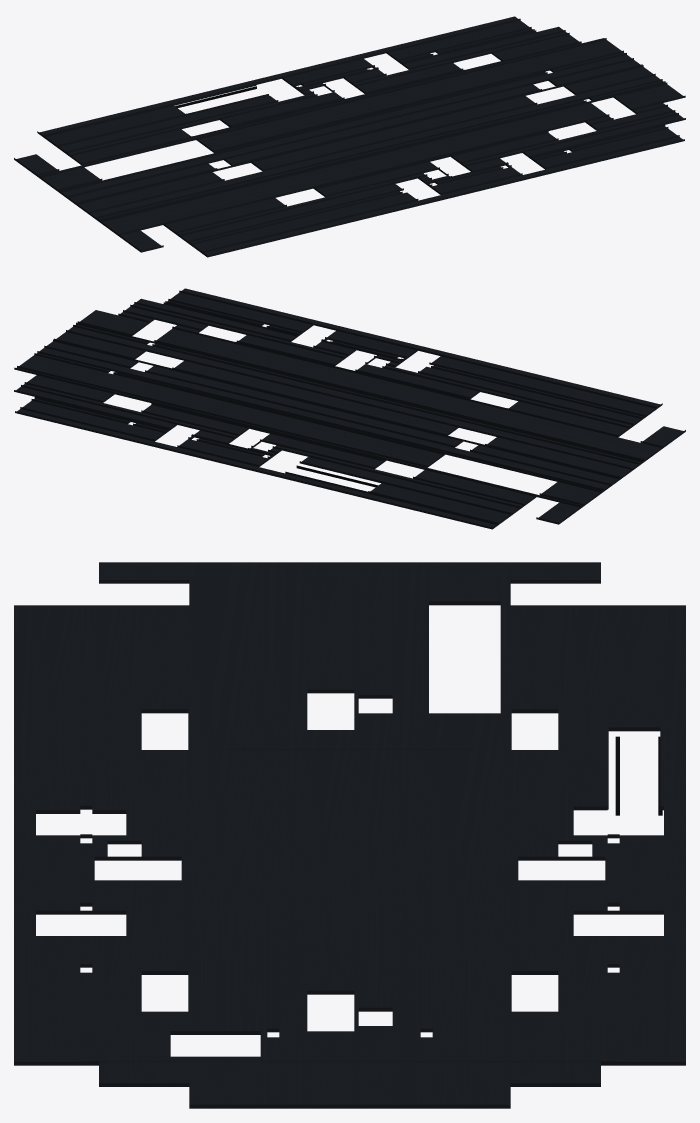
Rendered from tt_struct_f3_slab.glb.
The picture shows the model from 3 angles, top to bottom: view 1: azimuth 30°, elevation 25°; view 2: azimuth 150°, elevation 25°; view 3: azimuth 270°, elevation 25°; orthographic projection. The views are drawn at different scales.
Visible parts, largest first — view 1: Slab_F3; view 2: Slab_F3; view 3: Slab_F3.
Boxes of the visible parts, left/top/right/bottom form: Slab_F3: left=14, top=16, right=685, bottom=257; Slab_F3: left=14, top=288, right=685, bottom=529; Slab_F3: left=14, top=562, right=685, bottom=1108.
Size of what is drawn, in the model's own units: 152 by 1.5 by 79.
2 materials, 2 textured.
